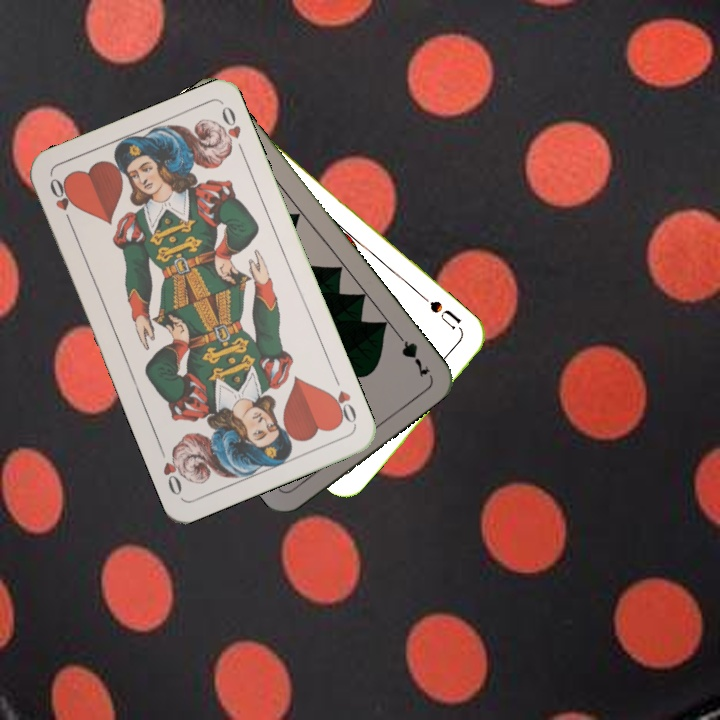G7: (391, 327, 433, 380)
HO: (324, 371, 359, 427), (45, 173, 76, 230)
SU: (418, 292, 464, 332)
